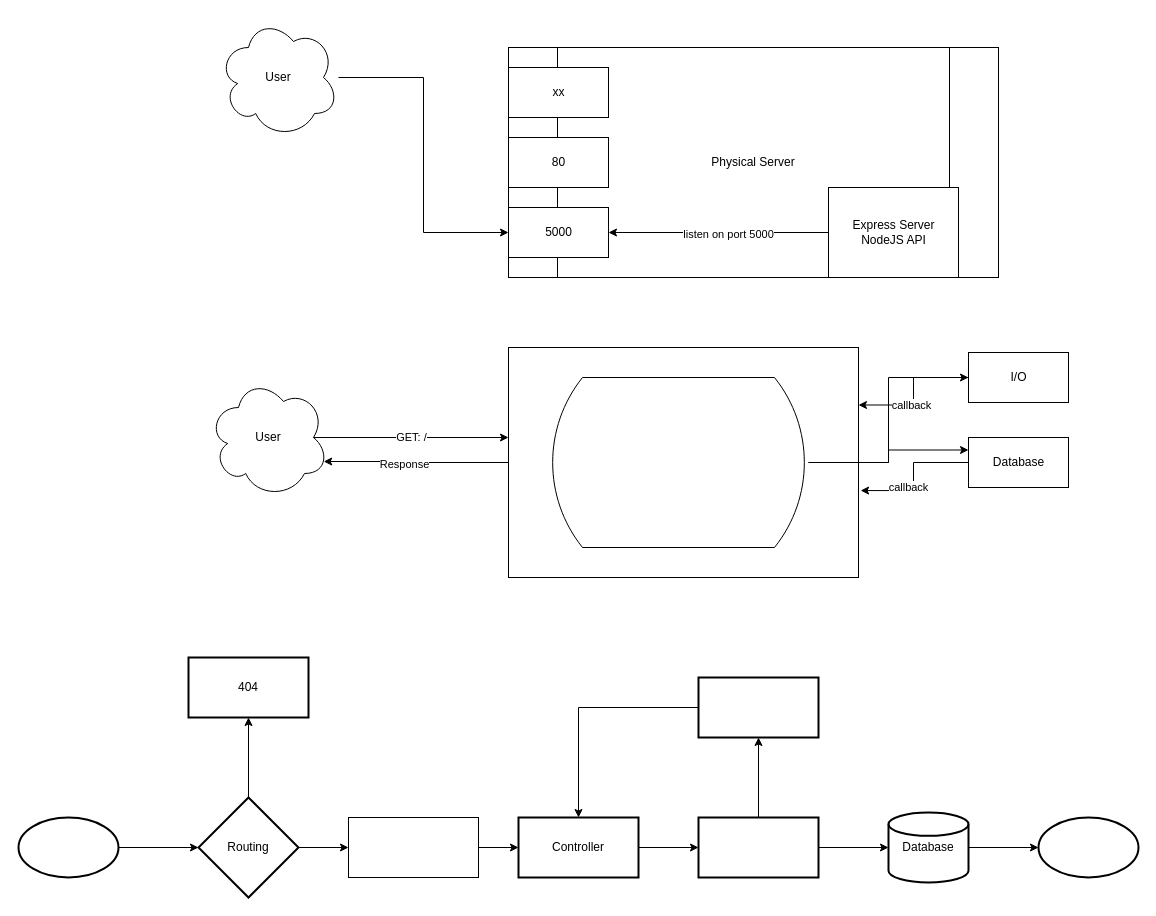
This 1156x916 diagram has some shape labels left out. Each missing label, with the centre of its shape:
"End" goes at pixel 1088 847.
"Middleware" goes at pixel 413 847.
"Service" goes at pixel 758 847.
"Single Thread Looping" goes at pixel 678 462.
"Start" goes at pixel 68 847.
"Throw Exception" goes at pixel 758 707.
